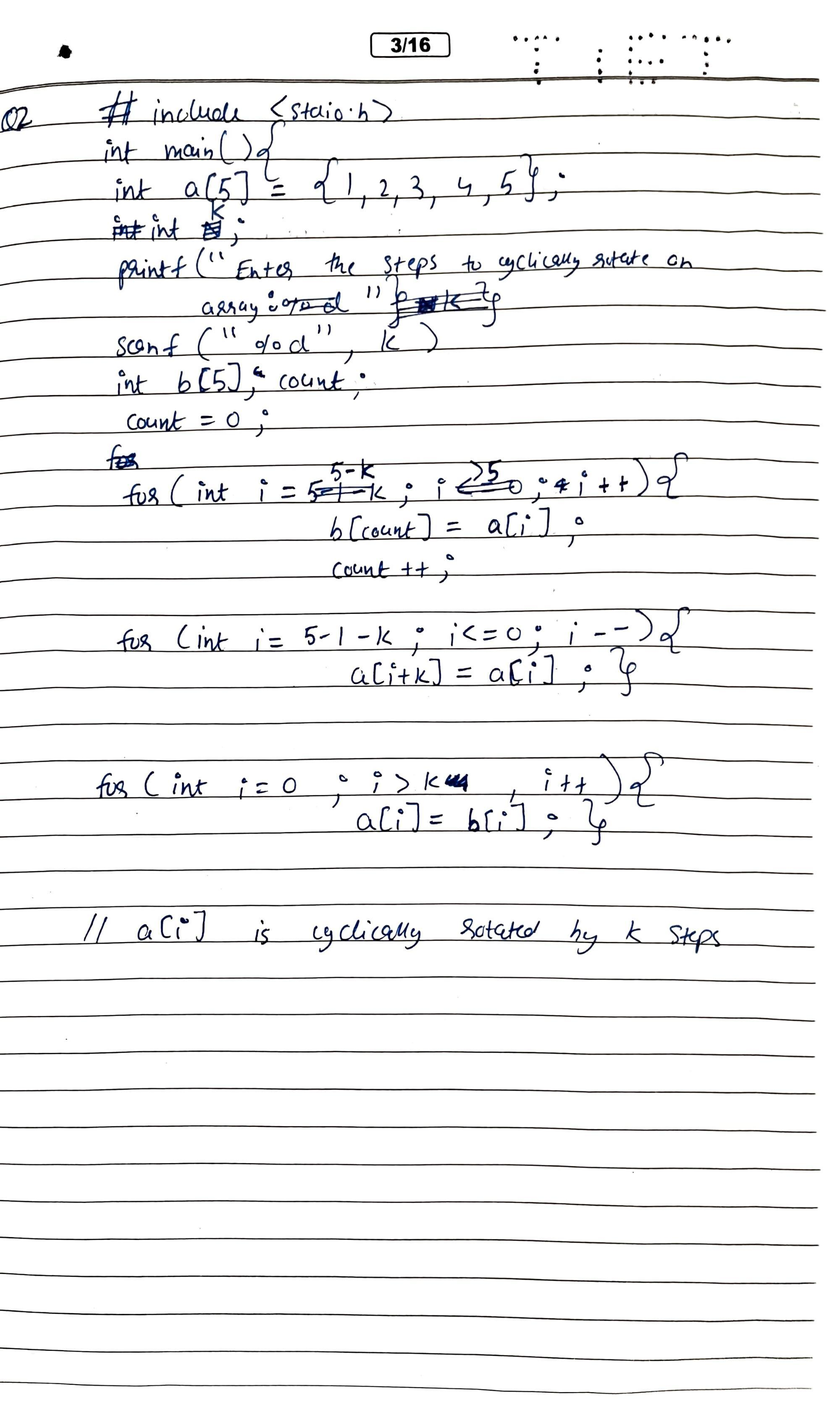cuttings: (384, 274, 491, 329), (307, 479, 386, 504), (281, 290, 351, 317), (454, 477, 523, 496), (111, 214, 146, 243), (105, 443, 141, 471), (200, 219, 222, 242), (444, 773, 469, 792), (553, 477, 570, 494)
